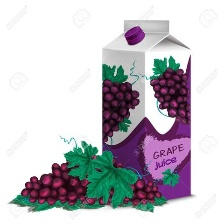carton: (98, 16, 198, 207)
